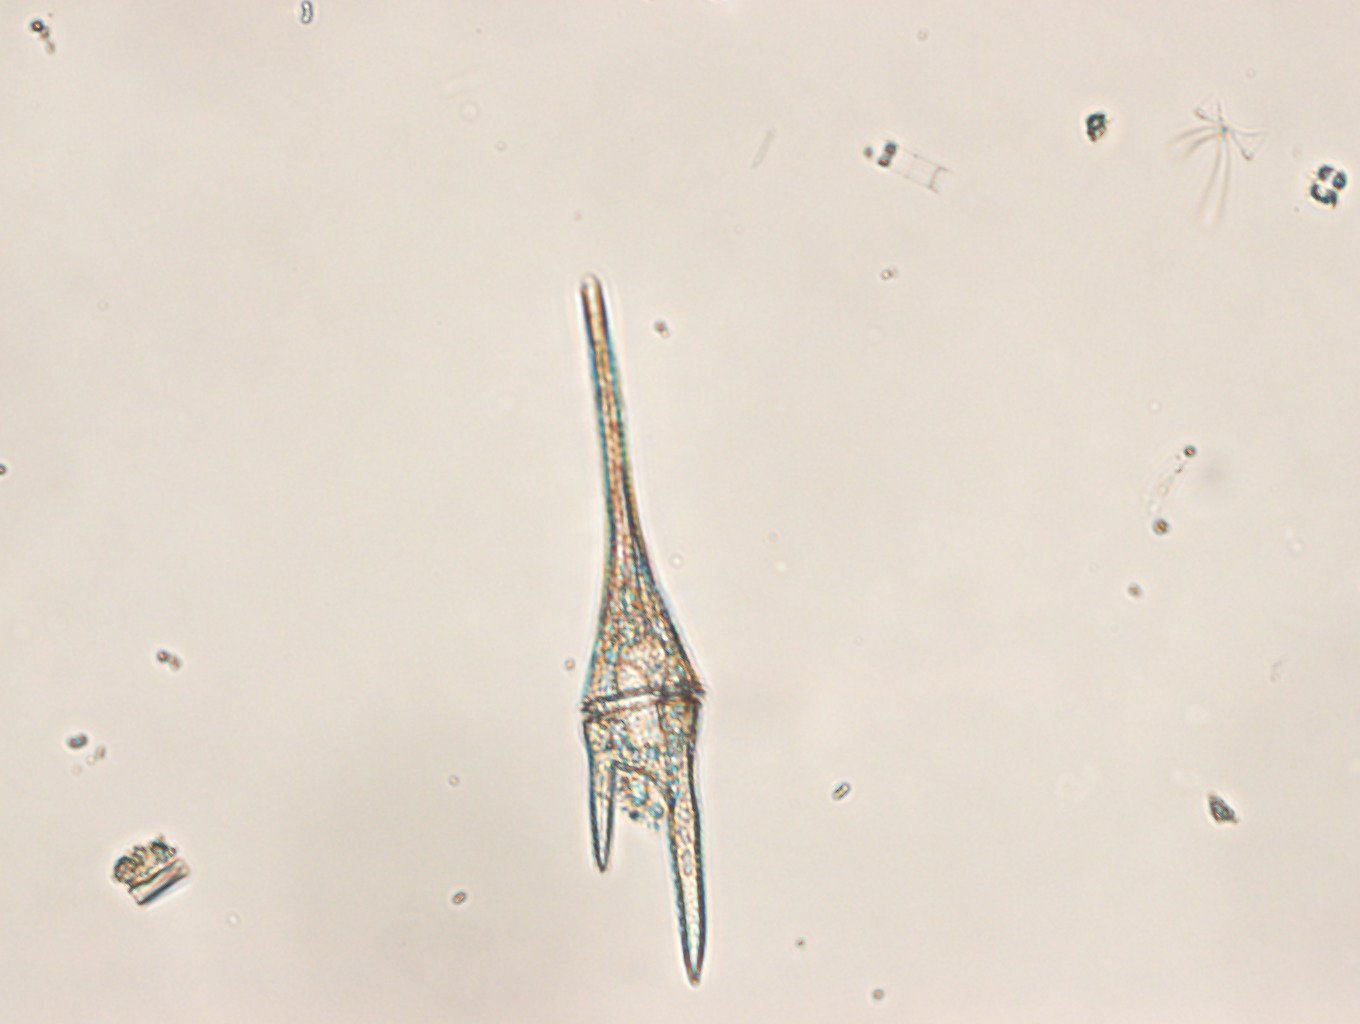ceratium furca: (577, 269, 708, 983)
